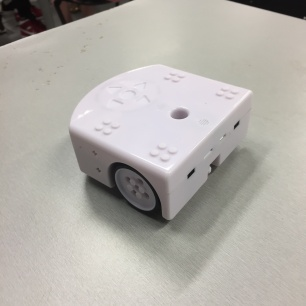thymio: (52, 61, 264, 222)
